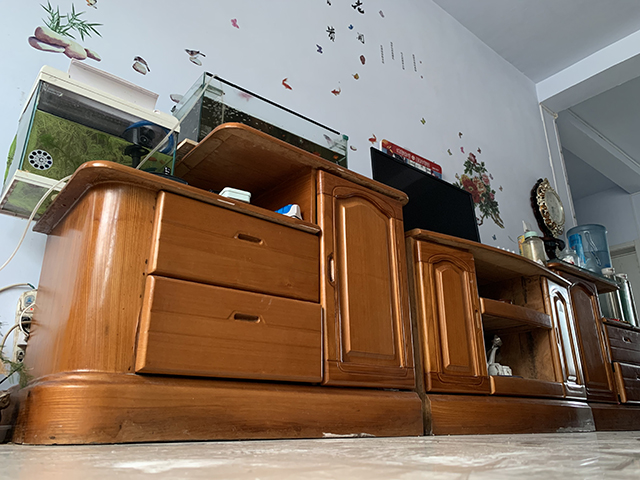cabinet: (9, 118, 640, 446)
